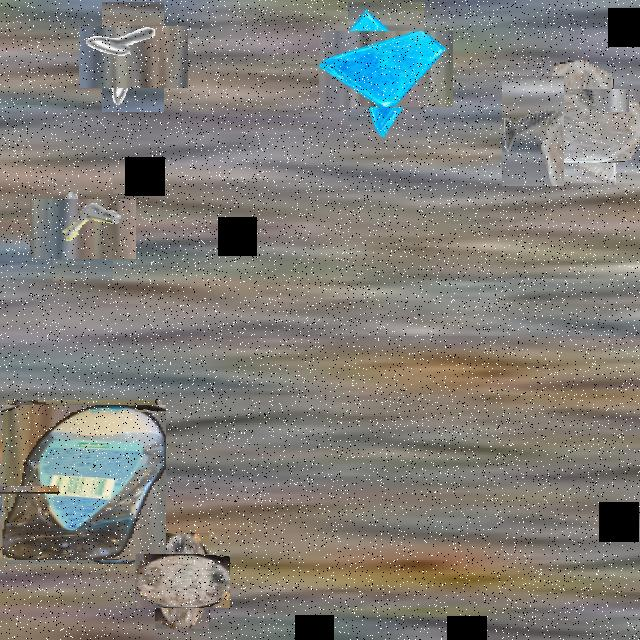glass: (333, 17, 439, 122), (526, 75, 630, 177), (0, 461, 33, 520)
metal: (90, 14, 176, 100), (41, 188, 125, 271), (502, 76, 564, 186)
plastic: (4, 402, 164, 562)
wood: (144, 544, 220, 619)
